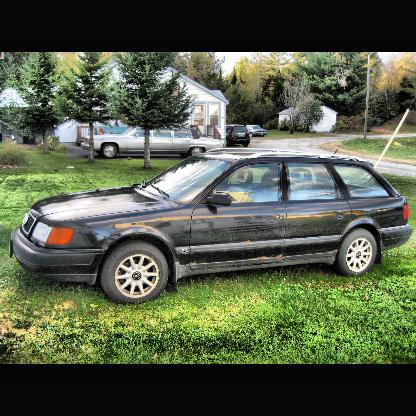Audi 100 Wagon 1994: (9, 133, 415, 308)
